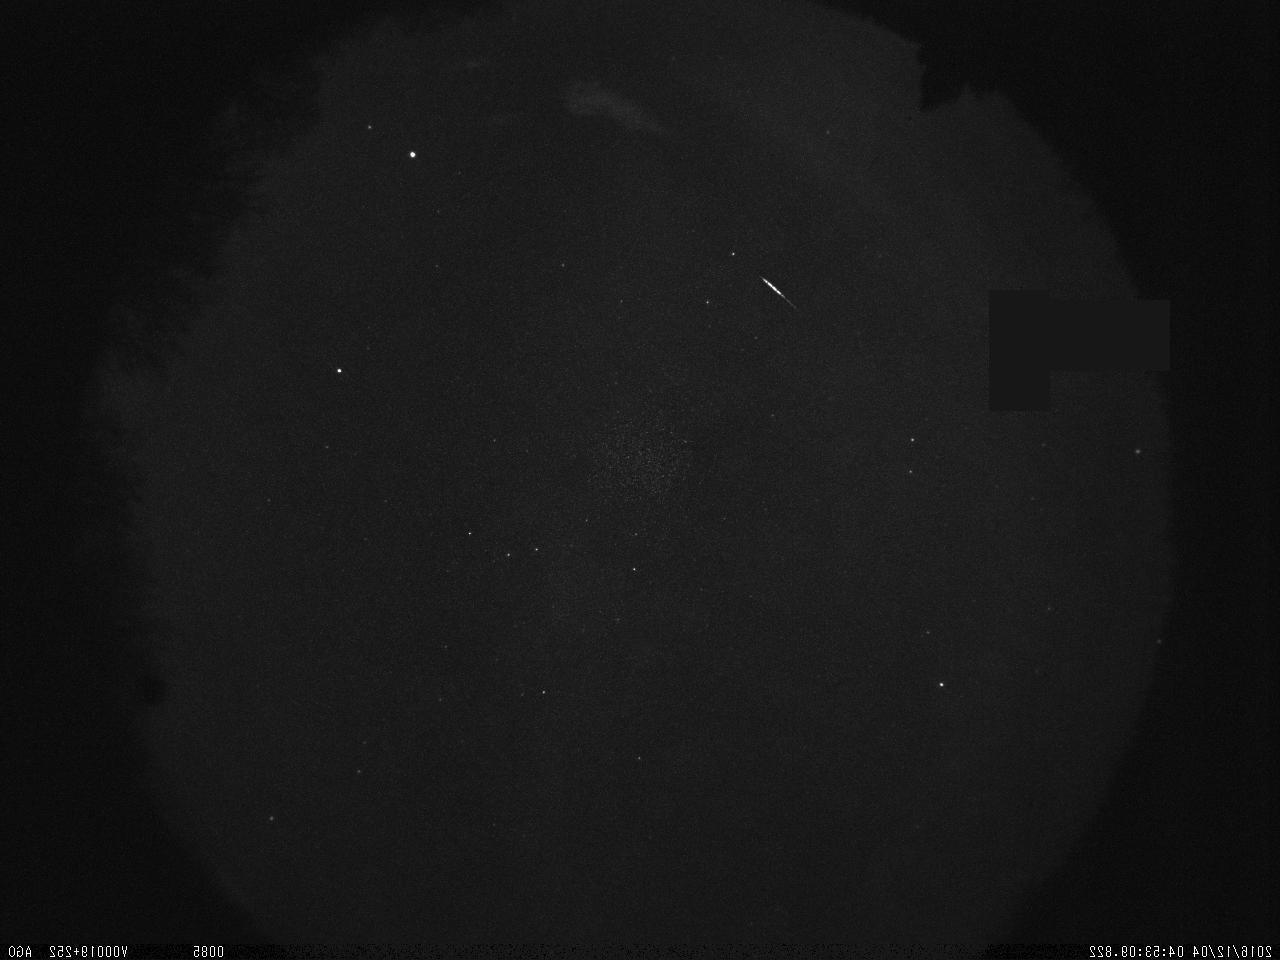meteor: (746, 258, 824, 322)
